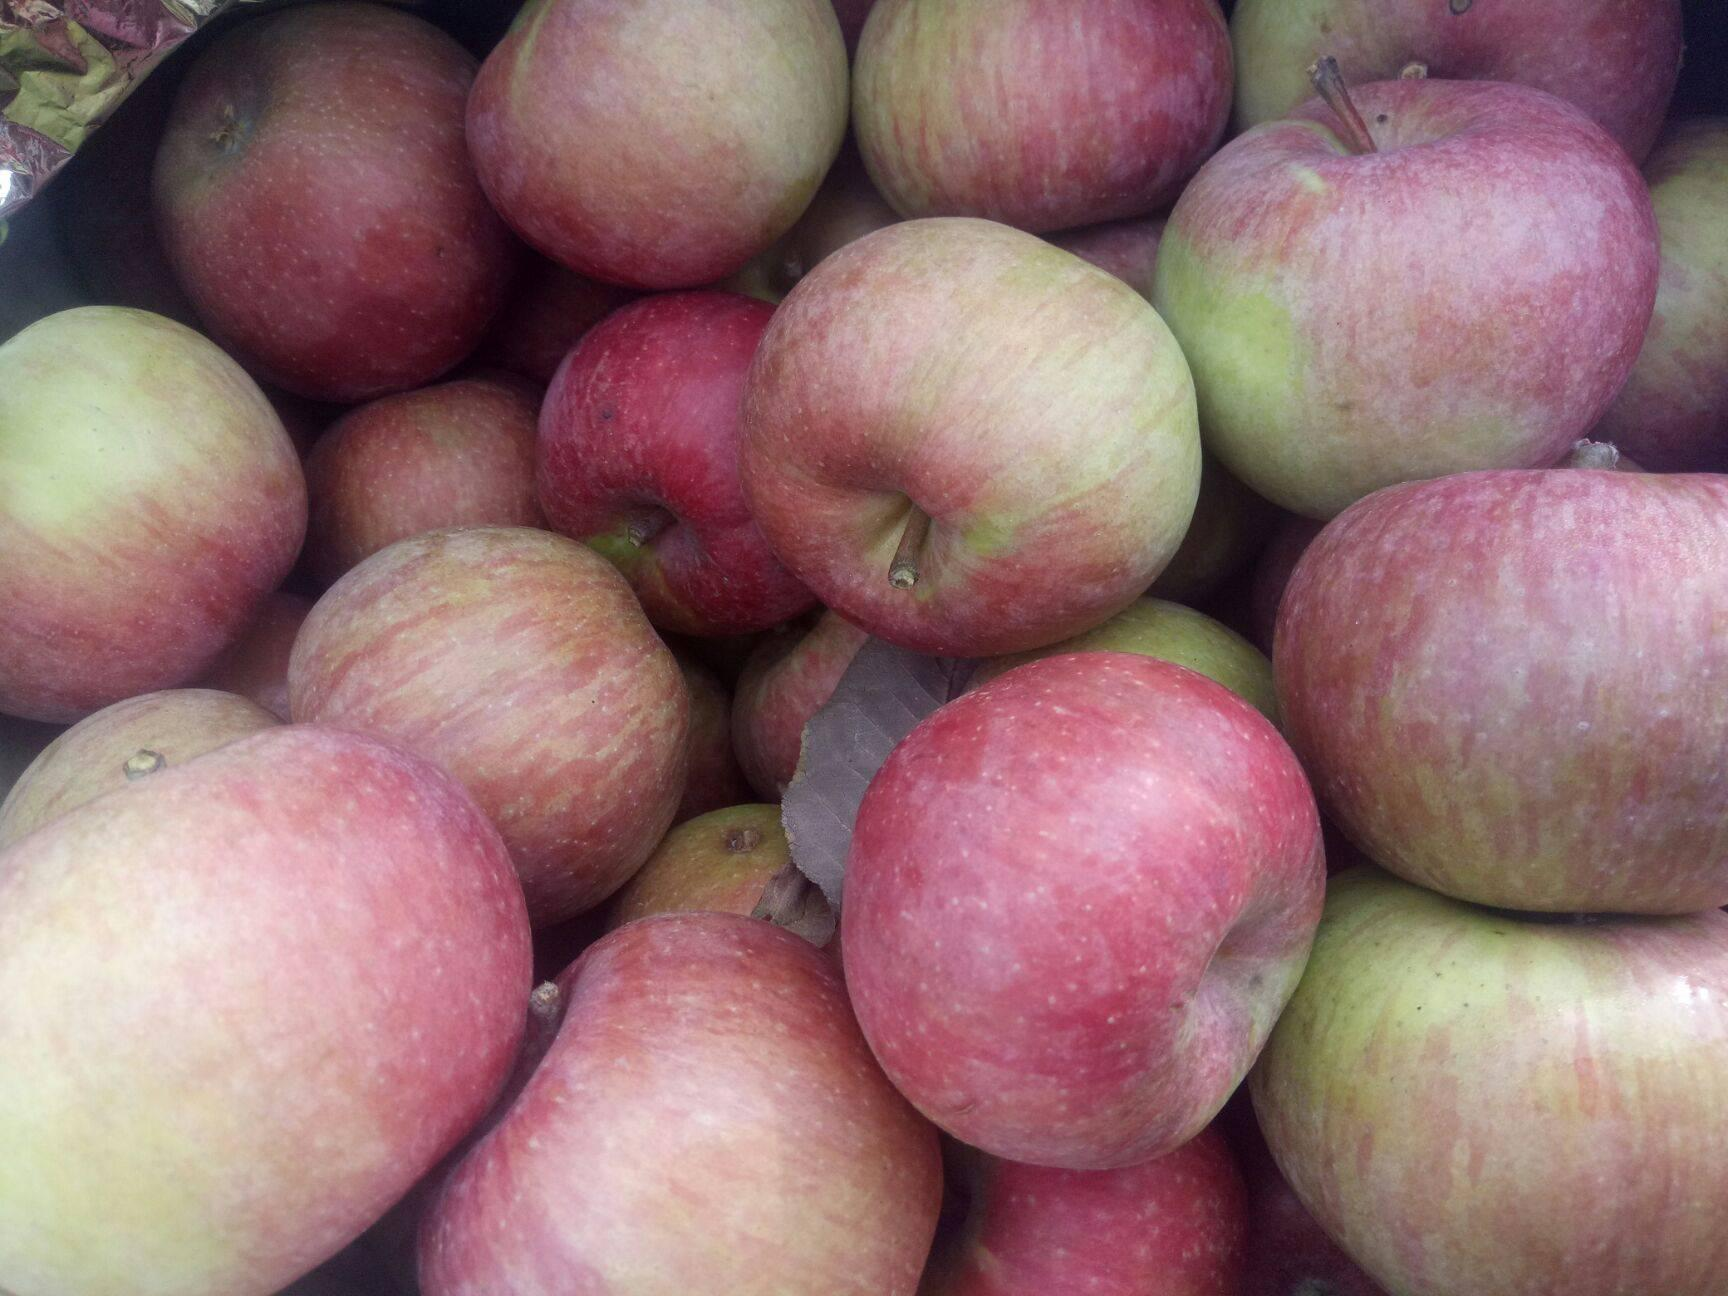apple: (1, 709, 528, 1296), (835, 651, 1336, 1171), (1186, 41, 1680, 500), (742, 210, 1207, 662), (412, 909, 948, 1296), (1280, 474, 1728, 915), (1256, 870, 1723, 1280), (279, 527, 688, 924), (151, 4, 513, 410), (1, 304, 312, 730), (465, 4, 849, 295), (537, 280, 818, 648), (846, 1, 1238, 240), (1219, 3, 1678, 157), (927, 1119, 1255, 1291)
